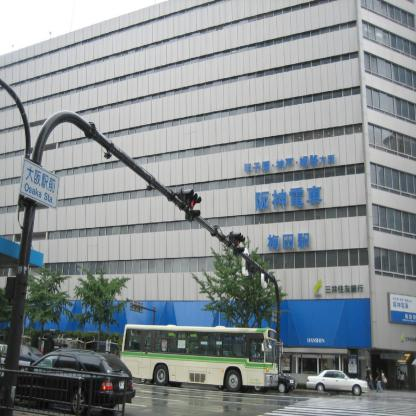Bus: (119, 323, 280, 392)
